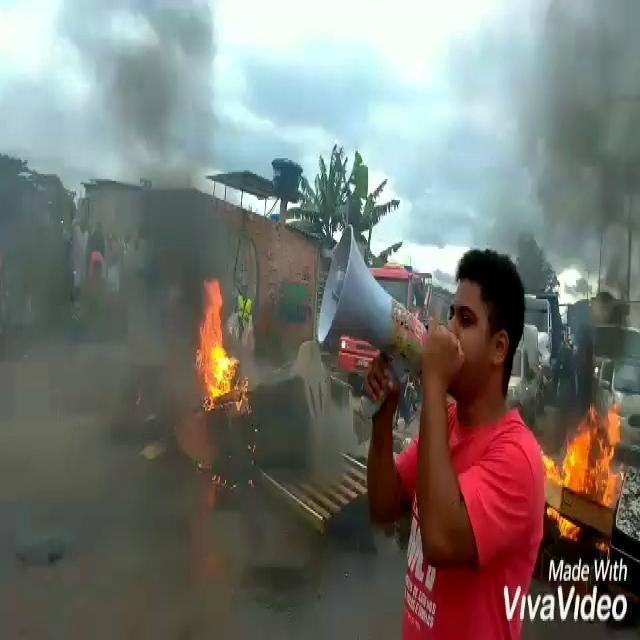Fire: (539, 403, 632, 544), (190, 266, 240, 414)
Smoke: (0, 0, 290, 640), (460, 2, 640, 298)
